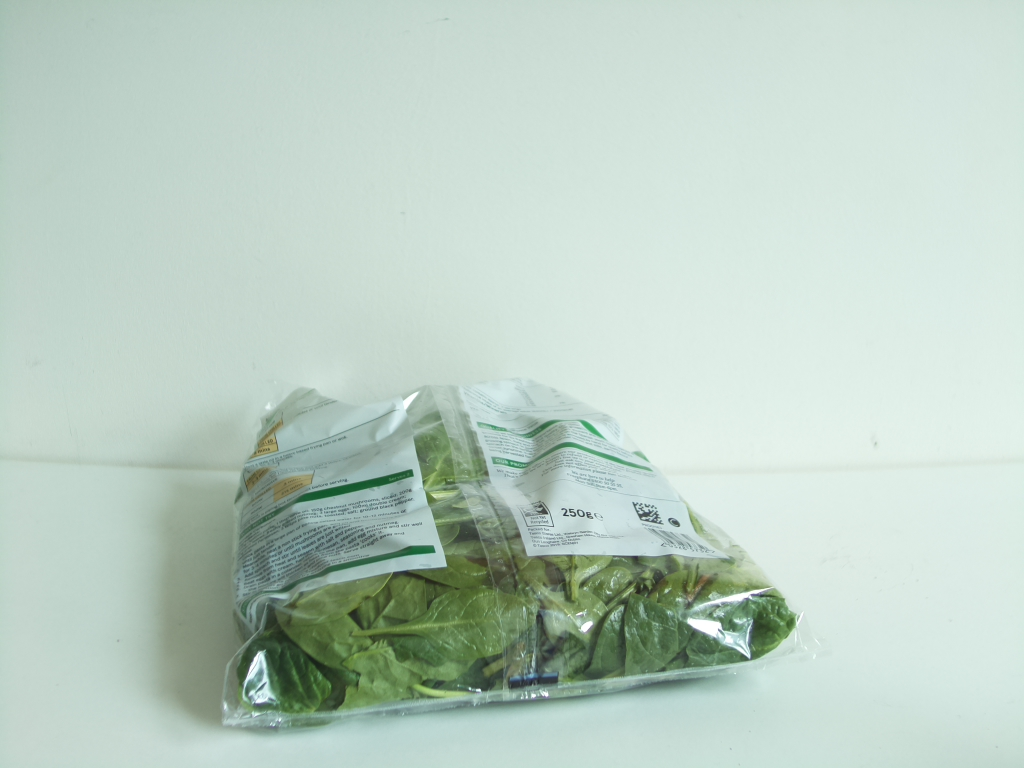salad: (236, 391, 789, 728)
